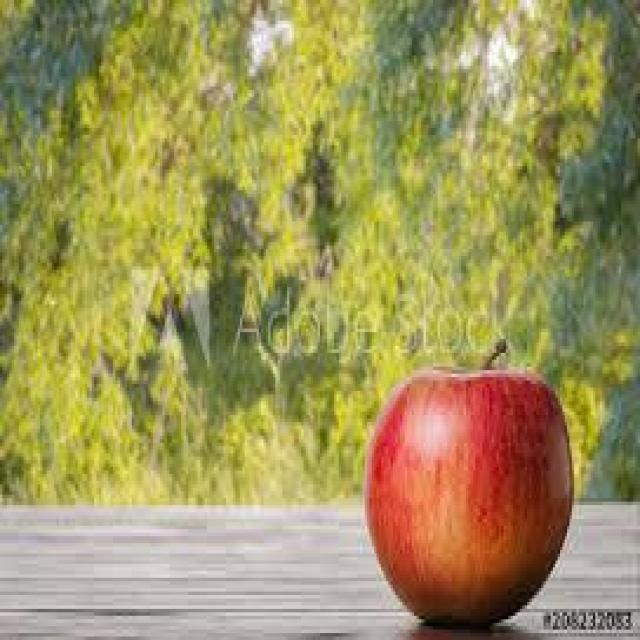maca: (360, 346, 574, 626)
